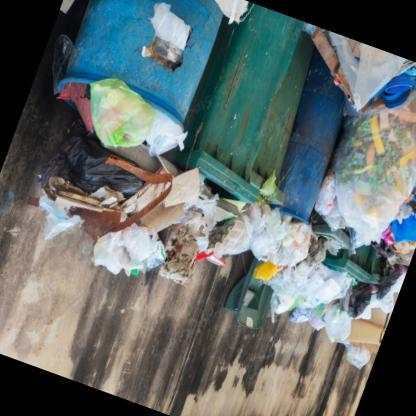Garbage: (21, 124, 188, 278), (309, 70, 415, 246), (286, 25, 415, 142), (136, 172, 258, 295), (50, 78, 184, 170), (313, 276, 395, 372), (261, 256, 350, 335), (236, 208, 316, 280), (377, 207, 415, 256), (370, 265, 405, 314)
